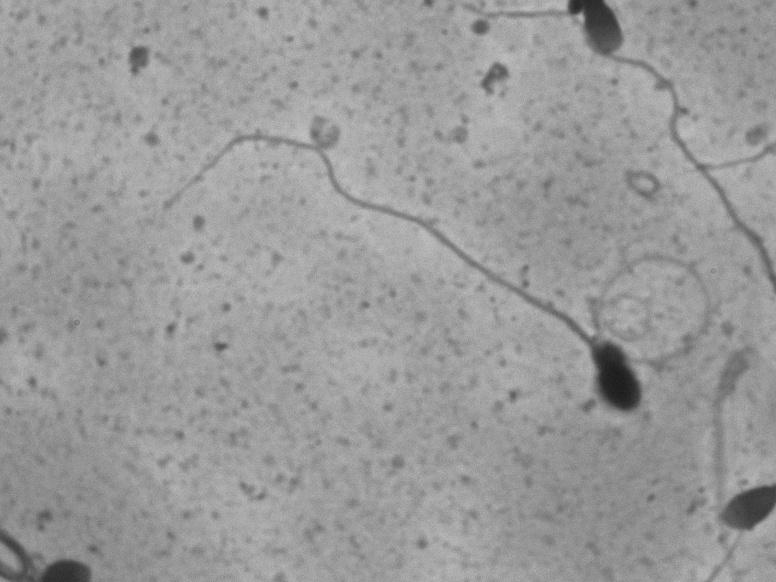Abnormal: (152, 93, 659, 444)
